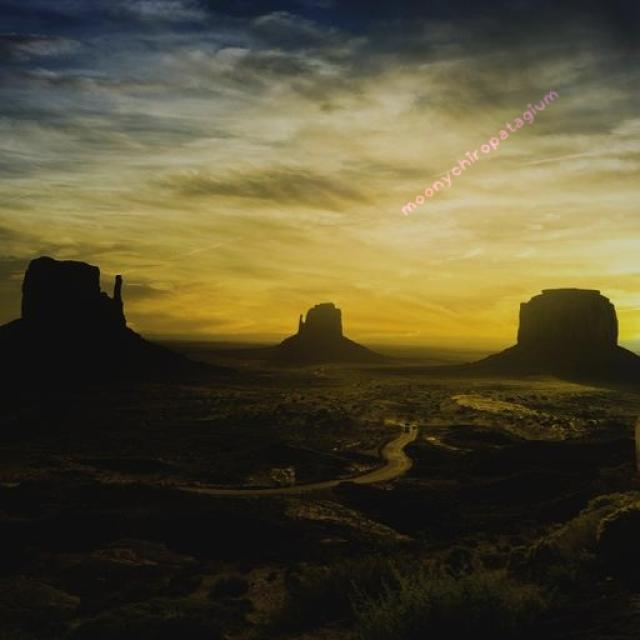watermark: (400, 82, 560, 218)
